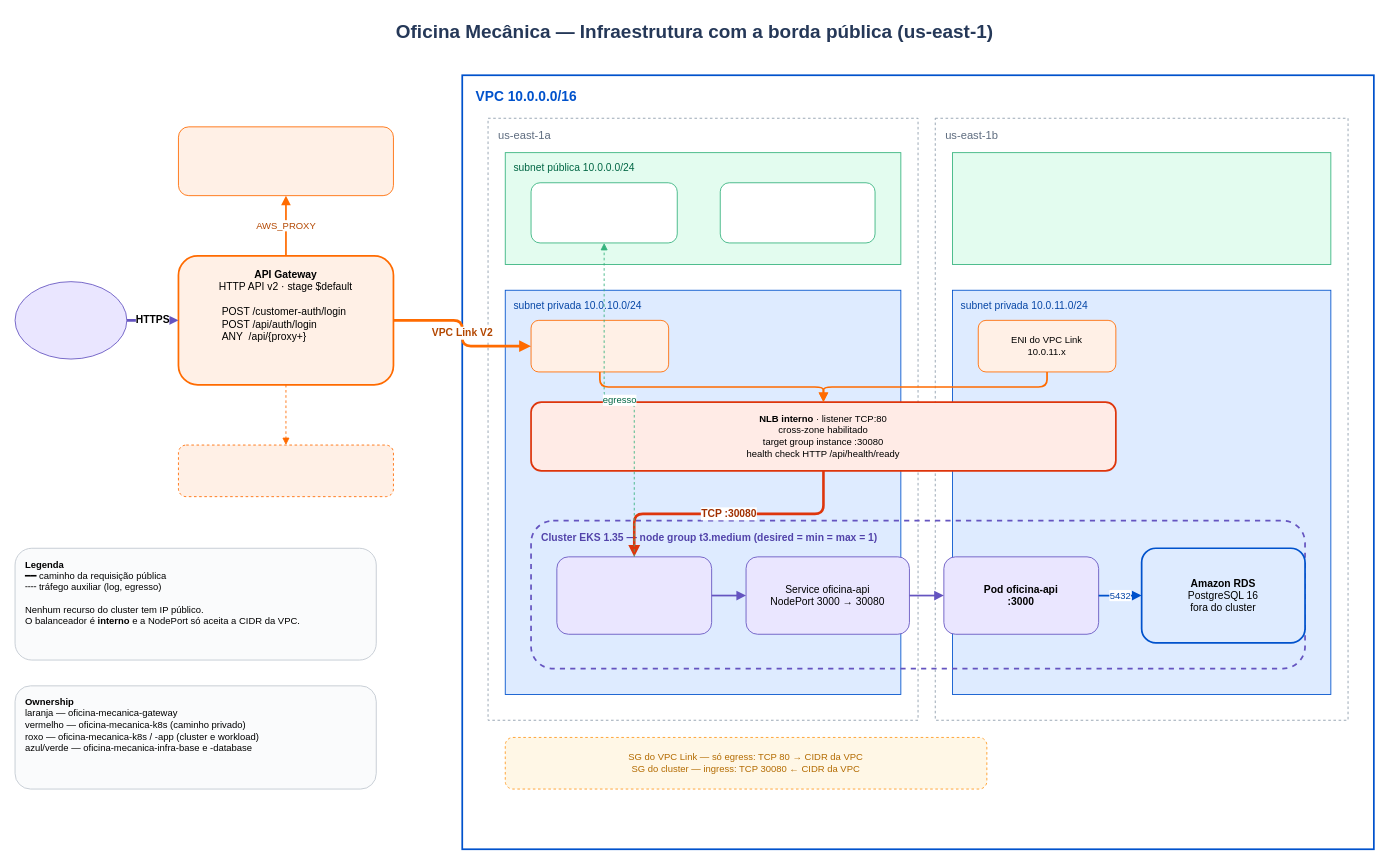
Some shapes in this 1390 by 864 pixel diagram are drawn without their labels. The centre of each missing label's shape, as x and y in pixels:
Cliente (internet): the point at 70,320
CloudWatch Logs log de acesso · 14 dias: the point at 285,470
ENI do VPC Link 10.0.10.x: the point at 599,345
Internet Gateway: the point at 797,212
Lambda autenticação de clientes (payload 2.0): the point at 285,161
NAT Gateway + Elastic IP: the point at 603,212
Nó EC2 NodePort 30080: the point at 634,595
subnet pública 10.0.1.0/24: the point at 1141,208
